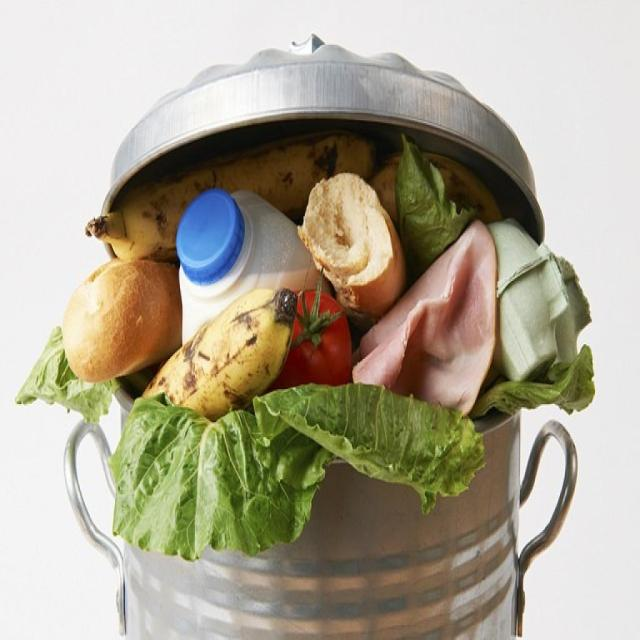inorganic: (157, 193, 299, 309)
organic: (395, 146, 564, 418), (129, 396, 431, 512), (59, 274, 177, 433), (102, 130, 388, 180), (292, 175, 415, 287)
